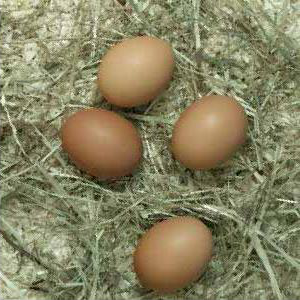egg: (133, 215, 213, 292), (168, 96, 249, 169), (62, 107, 144, 179), (89, 41, 167, 112)
